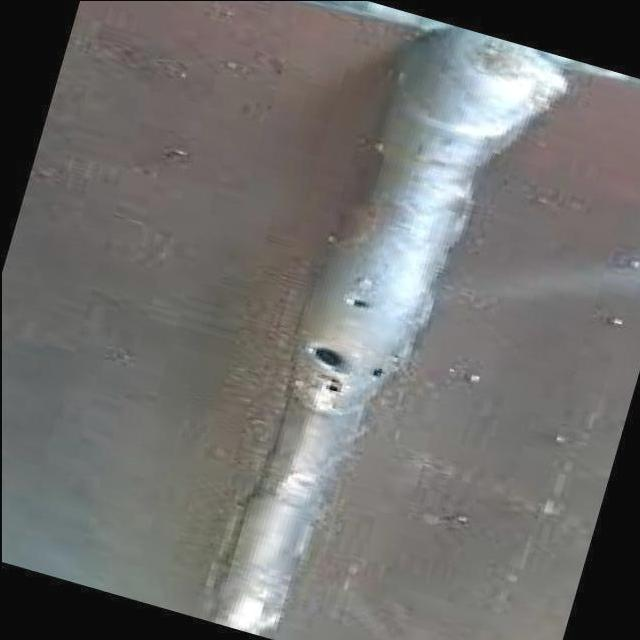defect: (304, 342, 346, 395), (360, 362, 398, 383), (341, 293, 374, 314)
